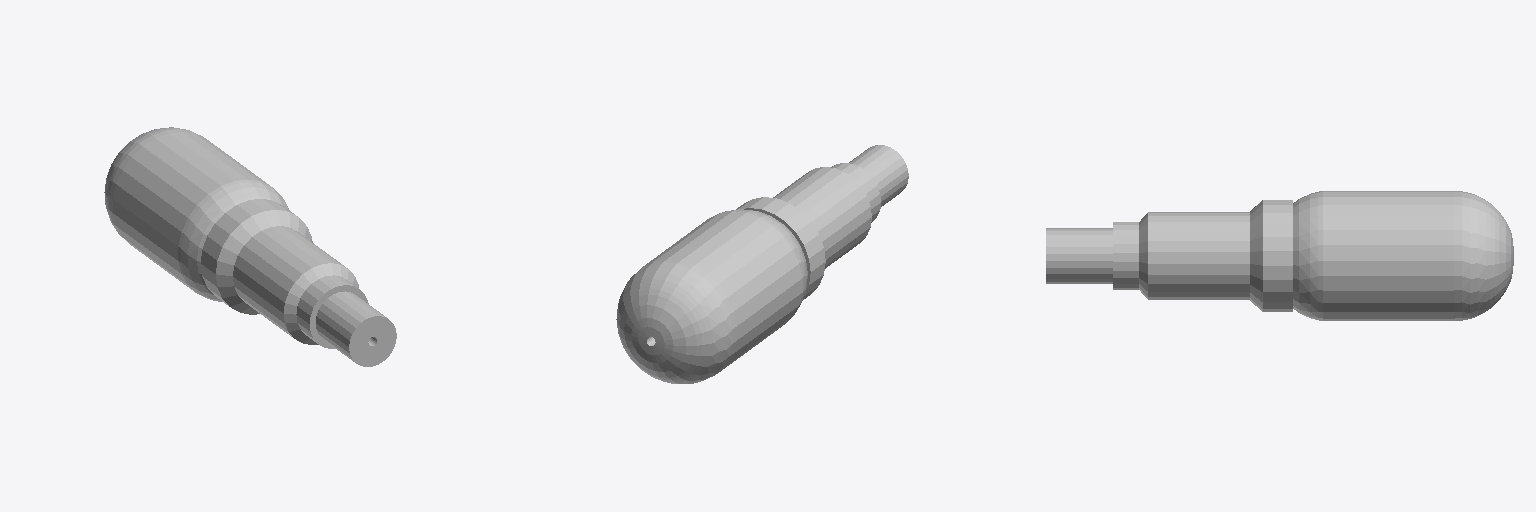
3 views of the same model, side by side, from view 1: azimuth 30°, elevation 25°; view 2: azimuth 150°, elevation 25°; view 3: azimuth 270°, elevation 25° (orthographic).
Parts seen in each view (by area): view 1: Body1; view 2: Body1; view 3: Body1.
Part boxes in pixels (bbox=[...]): Body1: bbox=[104, 127, 396, 366]; Body1: bbox=[616, 145, 908, 383]; Body1: bbox=[1046, 191, 1513, 320].
Size of the model in its own units: 12.87 by 12.97 by 46.48.